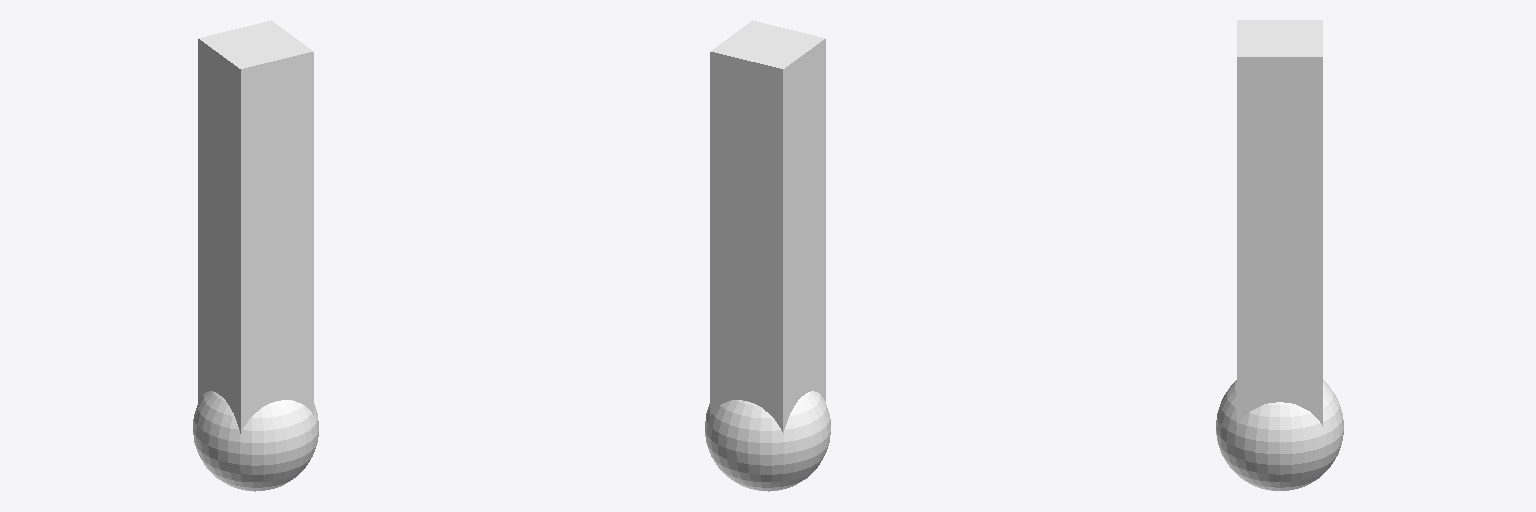
robot.urdf — writing_pen_box:
<?xml version="1.0"?>
<robot name="writing_pen_box">

  <!-- Main Pen Body -->
  <link name="pen_body">
    <inertial>
      <origin xyz="0 0 0" rpy="0 0 0"/>
      <mass value="0.95"/>
      <!-- Approx inertia for a slender box -->
      <inertia ixx="0.000083" ixy="0" ixz="0"
               iyy="0.000083" iyz="0"
               izz="0.0000083"/>
    </inertial>

    <visual>
      <geometry>
        <!-- half extents: 0.01 x 0.01 x 0.05 -->
        <box size="0.02 0.02 0.10"/>
      </geometry>
      <origin xyz="0 0 0" rpy="0 0 0"/>
      <material name="white">
        <color rgba="1 1 1 1"/>
      </material>
    </visual>

    <collision>
      <geometry>
        <box size="0.02 0.02 0.10"/>
      </geometry>
      <origin xyz="0 0 0" rpy="0 0 0"/>
    </collision>

  </link>

  <!-- Writing Tip -->
  <link name="pen_tip">
    <inertial>
      <mass value="0.05"/>
      <origin xyz="0 0 -0.05" rpy="0 0 0"/>
      <!-- small spherical inertia -->
      <inertia ixx="1e-6" ixy="0" ixz="0"
               iyy="1e-6" iyz="0"
               izz="1e-6"/>
    </inertial>

    <visual>
      <geometry>
        <sphere radius="0.015"/>
      </geometry>
      <origin xyz="0 0 0" rpy="0 0 0"/>
      <material name="white">
        <color rgba="1 1 1 1"/>
      </material>
    </visual>

    <collision>
      <geometry>
        <sphere radius="0.015"/>
      </geometry>
      <origin xyz="0 0 0" rpy="0 0 0"/>
    </collision>
  </link>

  <!-- Fixed Joint -->
  <joint name="pen_joint" type="fixed">
    <origin xyz="0 0 -0.05" rpy="0 0 0"/>
    <parent link="pen_body"/>
    <child link="pen_tip"/>
  </joint>

</robot>

--- Render facts (derived) ---
3 views of the same robot in one strip: view 1: azimuth 30°, elevation 25°; view 2: azimuth 150°, elevation 25°; view 3: azimuth 270°, elevation 25° (orthographic).
Robot: writing_pen_box — 2 links, 1 joints (1 fixed); root link pen_body; default pose: every joint at zero.
Visible links, largest first — view 1: pen_body, pen_tip; view 2: pen_body, pen_tip; view 3: pen_body, pen_tip.
Link boxes in pixels (left/top/right/bottom): pen_body: left=198, top=20, right=313, bottom=433; pen_tip: left=193, top=391, right=318, bottom=491; pen_body: left=710, top=20, right=825, bottom=433; pen_tip: left=705, top=391, right=830, bottom=491; pen_body: left=1237, top=20, right=1322, bottom=425; pen_tip: left=1216, top=380, right=1343, bottom=490.
Bounding box of the posed robot: 0.03 × 0.03 × 0.115 m (x, y, z).
Geometry: primitives only (box / cylinder / sphere), no mesh files.
